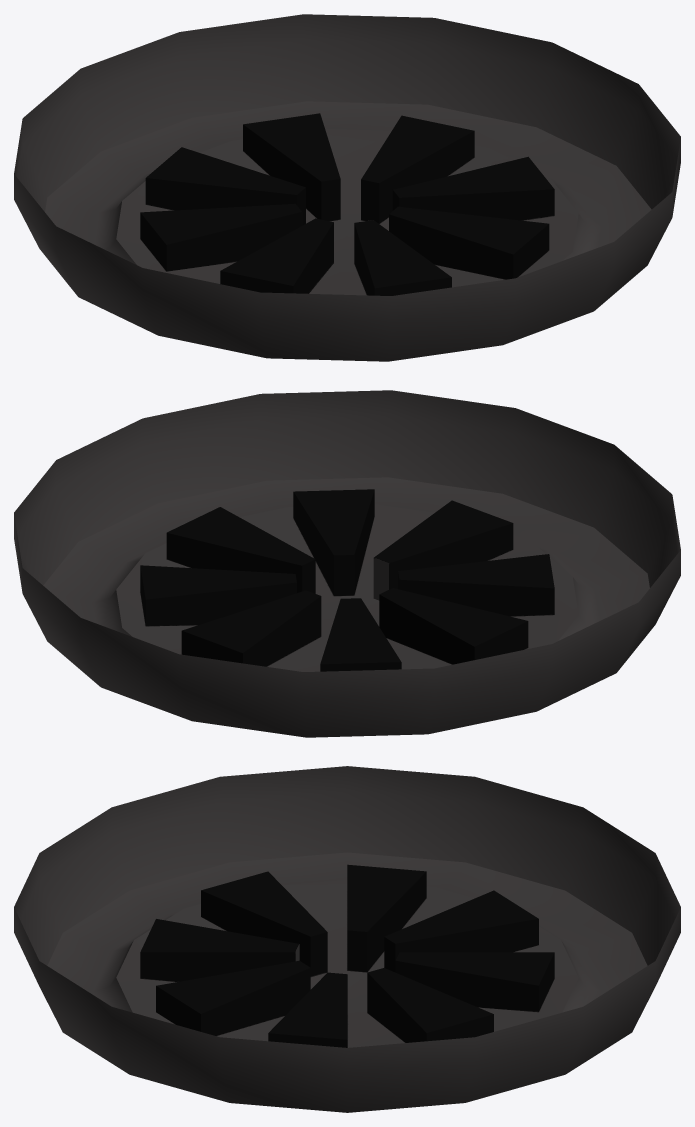
Rendered from SM_Round_Ventilator.fbx.
3 views of the same model, one above another, from view 1: azimuth 30°, elevation 25°; view 2: azimuth 150°, elevation 25°; view 3: azimuth 270°, elevation 25° (orthographic).
Parts seen in each view (by area): view 1: SM_Round_Ventilator; view 2: SM_Round_Ventilator; view 3: SM_Round_Ventilator.
Part boxes in pixels (left/top/right/bottom): SM_Round_Ventilator: left=14, top=14, right=680, bottom=361; SM_Round_Ventilator: left=14, top=390, right=680, bottom=737; SM_Round_Ventilator: left=14, top=766, right=680, bottom=1112.
Size of the model in its own units: 18.12 by 18.12 by 2.57.
Materials: 1 (1 with a texture image).
